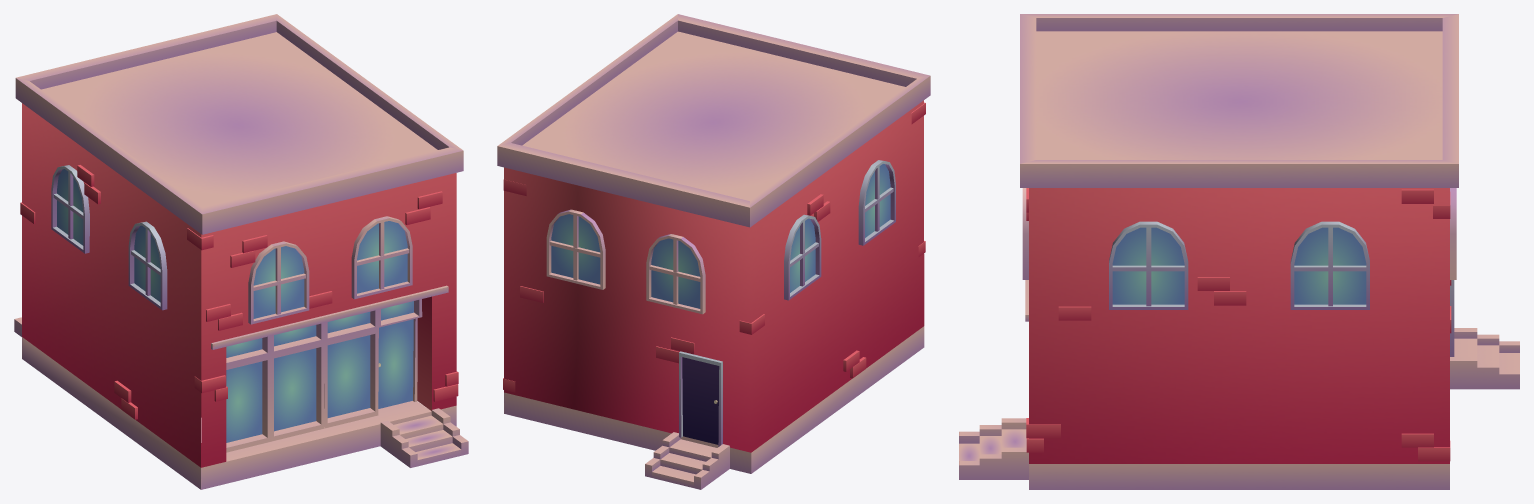
3 views of the same model, side by side, from view 1: azimuth 30°, elevation 25°; view 2: azimuth 150°, elevation 25°; view 3: azimuth 270°, elevation 25° (orthographic). The views are drawn at different scales.
Parts seen in each view (by area): view 1: SM_2F_05; view 2: SM_2F_05; view 3: SM_2F_05.
Boxes of the visible parts, left/top/right/bottom form: SM_2F_05: left=14, top=14, right=468, bottom=489; SM_2F_05: left=497, top=14, right=930, bottom=489; SM_2F_05: left=959, top=14, right=1519, bottom=489.
Bounding box in the file's own units: 7.78 × 12.09 × 7.81.
